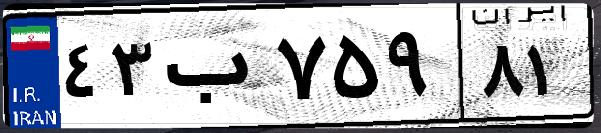1: (525, 38, 570, 115)
3: (110, 28, 158, 98)
4: (57, 26, 110, 100)
5: (330, 28, 385, 110)
7: (270, 28, 330, 110)
8: (475, 38, 525, 113)
9: (385, 28, 445, 110)
ب: (158, 20, 270, 120)
